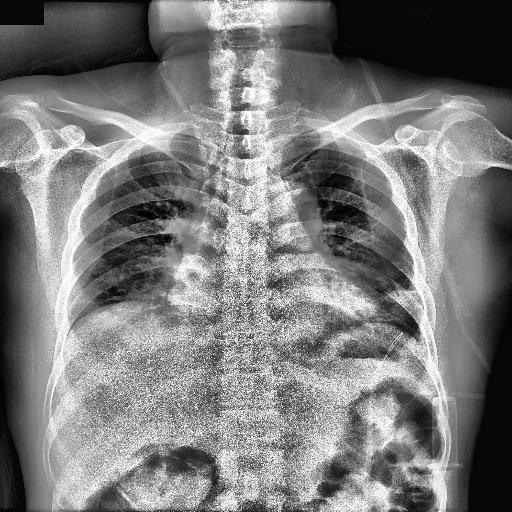0- Aortic enlargement: (248, 176, 322, 244), (250, 181, 320, 248), (257, 182, 322, 246)
3- Cardiomegaly: (166, 272, 378, 328), (158, 274, 377, 326), (166, 268, 380, 320)
7- Lung Opacity: (352, 256, 424, 340)
